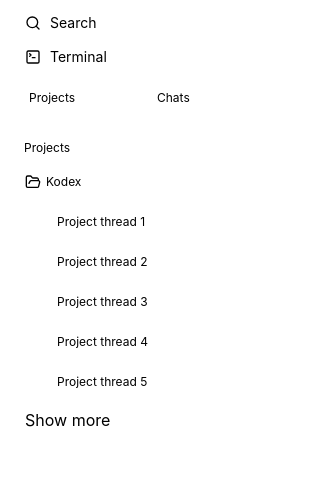
MVP shell flows › appends cursor-backed sidebar pages and ignores duplicate load-more clicks
Click the button "Show more": (68, 420) x1=16 y1=405 x2=119 y2=436
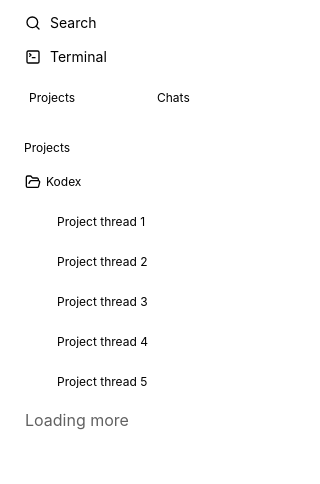
Click the button "Loading more": (77, 420) x1=16 y1=405 x2=138 y2=436
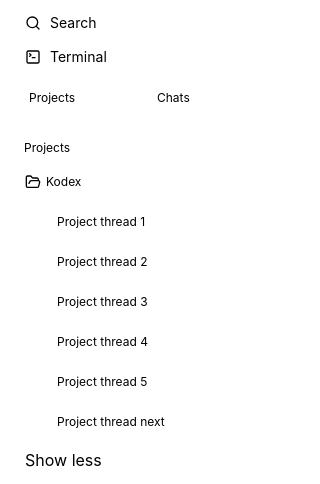
Check: the button "Project thread next" is shown, box x1=56 y1=413 x2=236 y2=431
Click the button "Chats": (210, 98) x1=147 y1=86 x2=273 y2=110
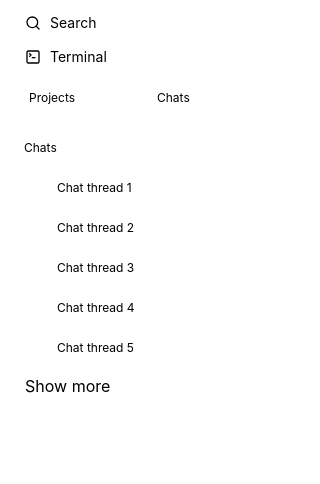
Click the button "Show more": (68, 386) x1=16 y1=371 x2=119 y2=402
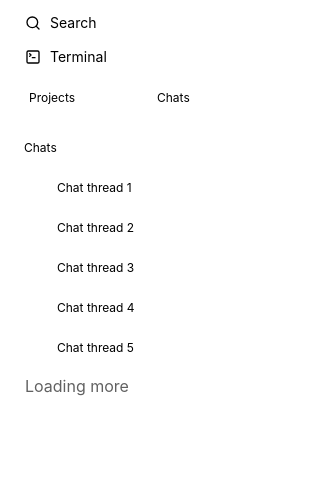
Click the button "Loading more": (77, 386) x1=16 y1=371 x2=138 y2=402
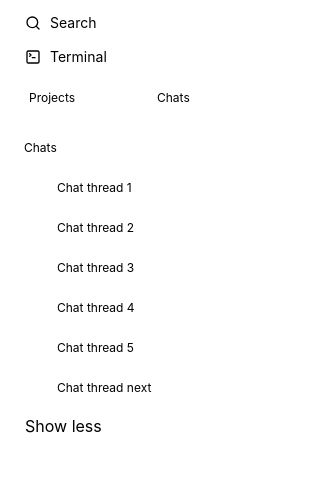
Check: the button "Chat thread next" is shown, box x1=56 y1=379 x2=236 y2=397
